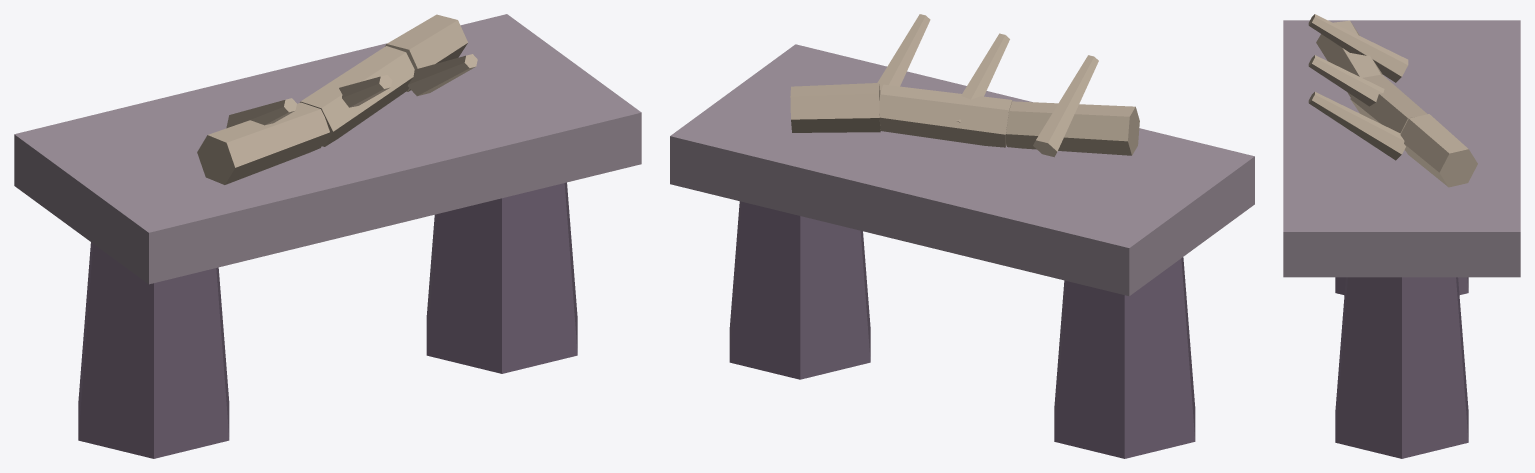
File: map-exclusive-v3__dragon_11.glb
3 renders of one model, left to right at view 1: azimuth 30°, elevation 25°; view 2: azimuth 150°, elevation 25°; view 3: azimuth 270°, elevation 25°, orthographic. The views are drawn at different scales.
Parts seen in each view (by area): view 1: dragon_11; view 2: dragon_11; view 3: dragon_11.
Part boxes in pixels (left/top/right/bottom): dragon_11: left=14, top=14, right=641, bottom=458; dragon_11: left=670, top=14, right=1254, bottom=458; dragon_11: left=1283, top=14, right=1520, bottom=458.
Size of the model in its own units: 1.52 by 0.9847 by 0.71.
